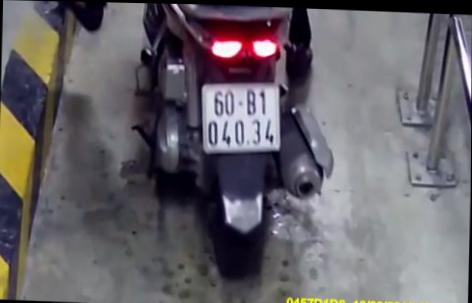LP: (197, 79, 283, 155)
